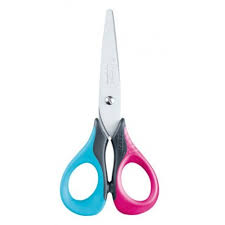tihiras: (57, 8, 160, 223)
